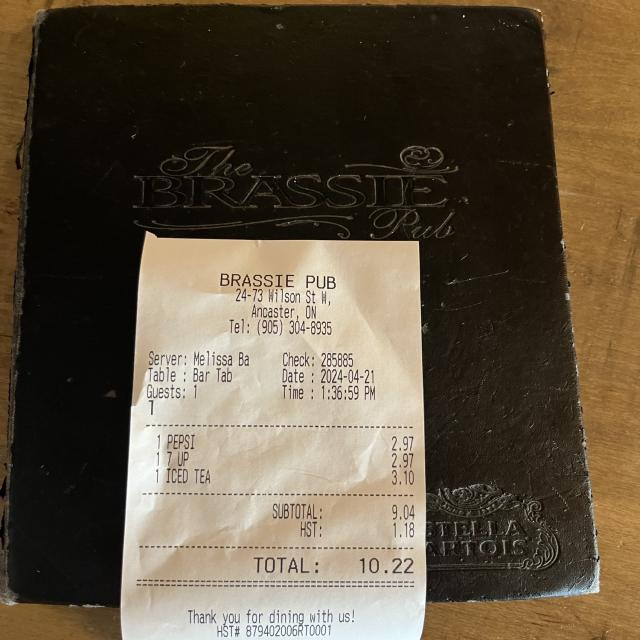item: (162, 430, 418, 452), (162, 448, 417, 469), (163, 468, 418, 487)
store_name: (213, 270, 343, 293)
total_amount: (246, 552, 419, 580)
transaction_date: (314, 367, 381, 386)
